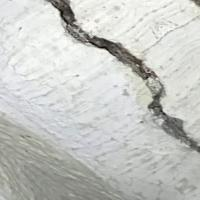crack: (35, 0, 199, 166)
